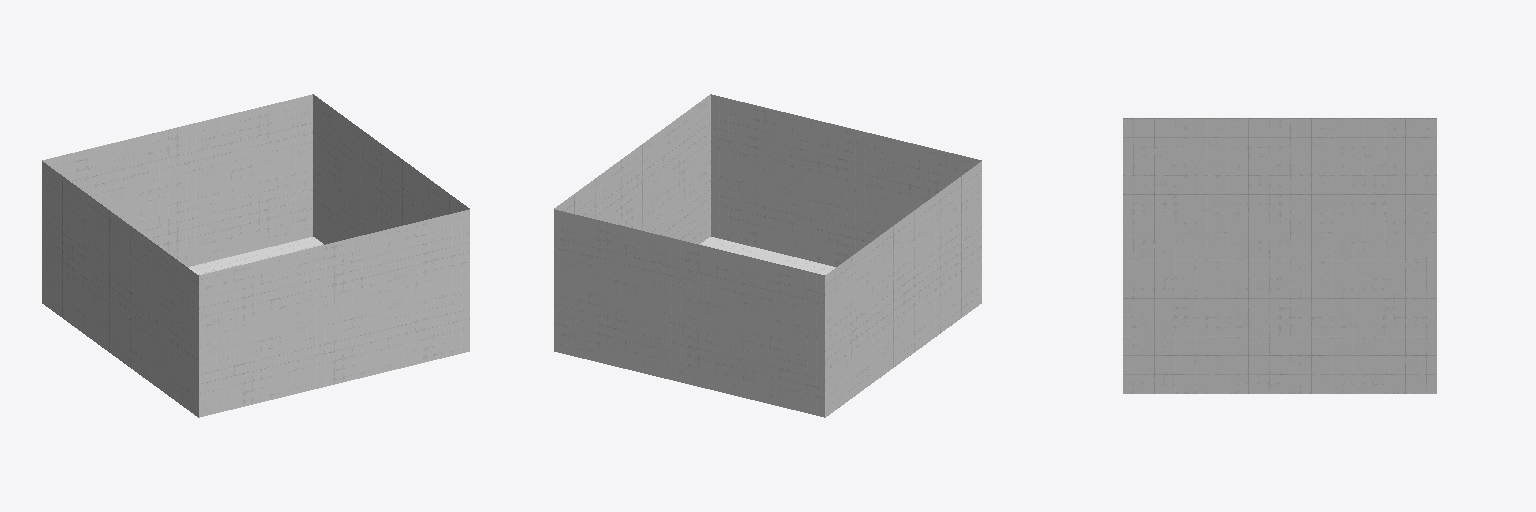
3 renders of one model, left to right at view 1: azimuth 30°, elevation 25°; view 2: azimuth 150°, elevation 25°; view 3: azimuth 270°, elevation 25°, orthographic.
Visible parts, largest first — view 1: pCube1; view 2: pCube1; view 3: pCube1.
Part boxes in pixels (x1,y1,x2,y2): pCube1: (42,94,469,417); pCube1: (554,94,981,417); pCube1: (1123,118,1436,393).
Size of the model in its own units: 1000 by 500 by 1000.
Materials: 1 (1 with a texture image).